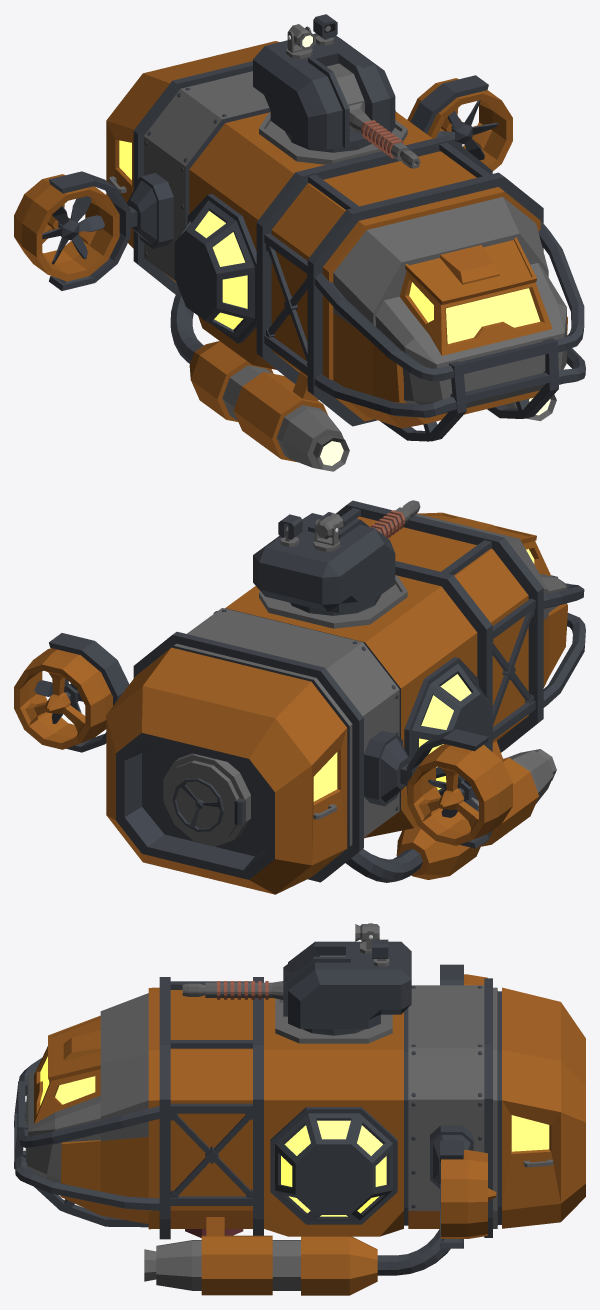
File: PlayerSub.fbx
The picture shows the model from 3 angles, top to bottom: view 1: azimuth 30°, elevation 25°; view 2: azimuth 150°, elevation 25°; view 3: azimuth 270°, elevation 25°; orthographic projection. The views are drawn at different scales.
Parts seen in each view (by area): view 1: Hull, O2Tanks, WindowsFront, Turret, WindowsSide, FrontSection, BumberSides, PropBoxRight, FrontBumber, PropBoxLeft, PropConnectionRight, PropHolderRight (+5 smaller); view 2: Hull, Turret, PropBoxRight, O2Tanks, PropBoxLeft, WindowsSide, Door, PropConnectionRight, TurretBase, PropHolderLeft, BumberSides, PropHolderRight (+5 smaller); view 3: Hull, O2Tanks, WindowsSide, Turret, WindowsFront, BumberSides, PropBoxLeft, FrontSection, FrontBumber, TurretBase, TurretGun, PropConnectionLeft (+2 smaller).
Part boxes in pixels (x1=…): Hull: x1=106, y1=41, x2=567, y2=428; O2Tanks: x1=170, y1=288, x2=556, y2=471; WindowsFront: x1=399, y1=237, x2=552, y2=355; Turret: x1=253, y1=33, x2=395, y2=152; WindowsSide: x1=174, y1=194, x2=256, y2=343; FrontSection: x1=375, y1=263, x2=566, y2=418; BumberSides: x1=314, y1=222, x2=585, y2=417; PropBoxRight: x1=14, y1=174, x2=119, y2=281; FrontBumber: x1=380, y1=338, x2=558, y2=441; PropBoxLeft: x1=407, y1=78, x2=512, y2=171; PropConnectionRight: x1=127, y1=173, x2=173, y2=248; PropHolderRight: x1=49, y1=171, x2=137, y2=290; Hull: x1=106, y1=500, x2=567, y2=894; Turret: x1=253, y1=512, x2=395, y2=615; PropBoxRight: x1=407, y1=744, x2=512, y2=845; O2Tanks: x1=345, y1=740, x2=556, y2=882; PropBoxLeft: x1=14, y1=648, x2=112, y2=749; WindowsSide: x1=404, y1=657, x2=491, y2=796; Door: x1=163, y1=753, x2=250, y2=846; PropConnectionRight: x1=364, y1=730, x2=410, y2=806; TurretBase: x1=259, y1=576, x2=407, y2=628; PropHolderLeft: x1=49, y1=633, x2=129, y2=752; BumberSides: x1=543, y1=583, x2=585, y2=707; PropHolderRight: x1=400, y1=729, x2=488, y2=848; Hull: x1=60, y1=977, x2=585, y2=1239; O2Tanks: x1=144, y1=1217, x2=450, y2=1295; WindowsSide: x1=270, y1=1107, x2=397, y2=1224; Turret: x1=283, y1=941, x2=411, y2=1035; WindowsFront: x1=34, y1=1015, x2=100, y2=1123; BumberSides: x1=15, y1=1058, x2=159, y2=1210; PropBoxLeft: x1=441, y1=1150, x2=496, y2=1238; FrontSection: x1=25, y1=1068, x2=100, y2=1183; FrontBumber: x1=14, y1=1081, x2=148, y2=1227; TurretBase: x1=275, y1=998, x2=392, y2=1043; TurretGun: x1=182, y1=955, x2=345, y2=999; PropConnectionLeft: x1=430, y1=1125, x2=473, y2=1188.
Bounding box in the file's own units: 641 × 446 × 729.
